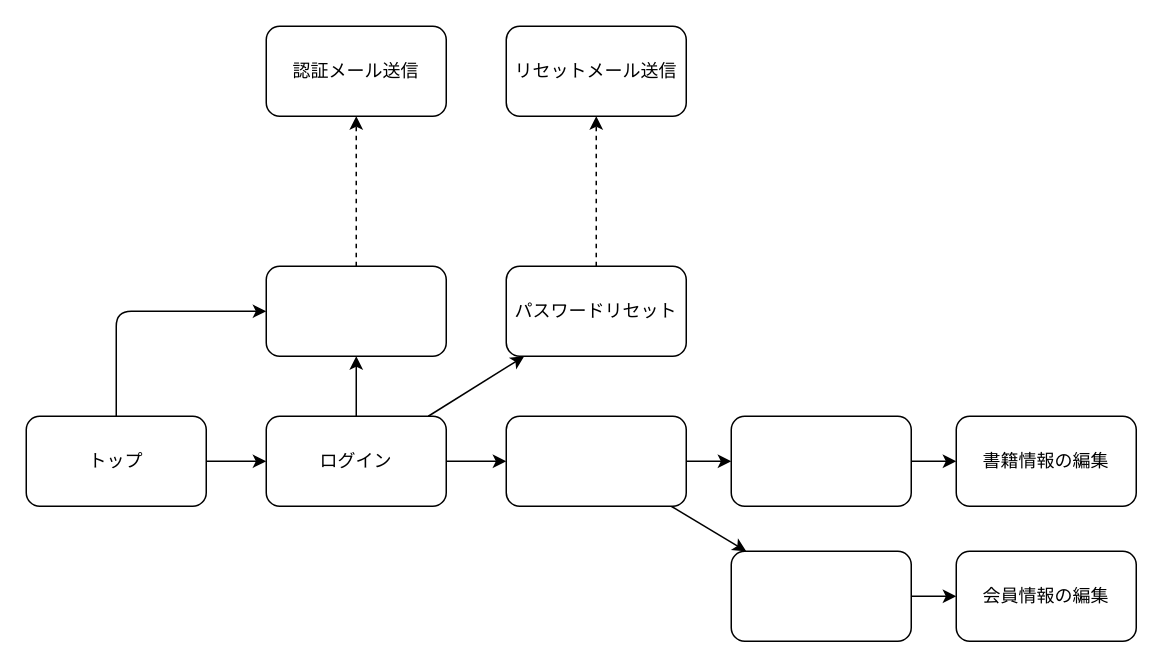
The diagram is 1163 pixels wide and 668 high, and some of its shapes have lost their labels. The shapes that lost their labels are listed below. From the top down, each one's centre as x and y in pixels, then its label:
At [355,310]: "新規登録".
At [595,460]: "マイページ".
At [820,460]: "書籍一覧".
At [820,595]: "会員情報".
